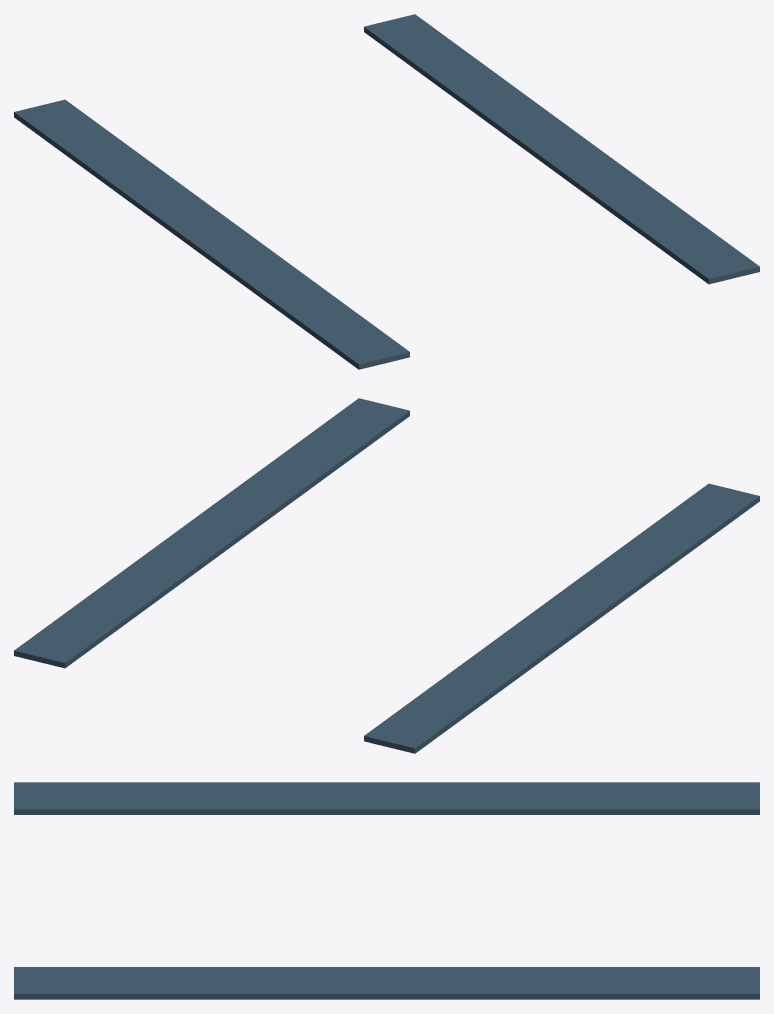
The model's file is v02-00-04-deck.glb.
The picture shows the model from 3 angles, top to bottom: view 1: azimuth 30°, elevation 25°; view 2: azimuth 150°, elevation 25°; view 3: azimuth 270°, elevation 25°; orthographic projection. The views are drawn at different scales.
Parts seen in each view (by area): view 1: v02-00-04-deck; view 2: v02-00-04-deck; view 3: v02-00-04-deck.
Part boxes in pixels (bbox=[...]): v02-00-04-deck: bbox=[14, 14, 759, 369]; v02-00-04-deck: bbox=[14, 398, 759, 753]; v02-00-04-deck: bbox=[14, 782, 759, 999].
Bounding box in the file's own units: 47 × 0.6 × 70.
